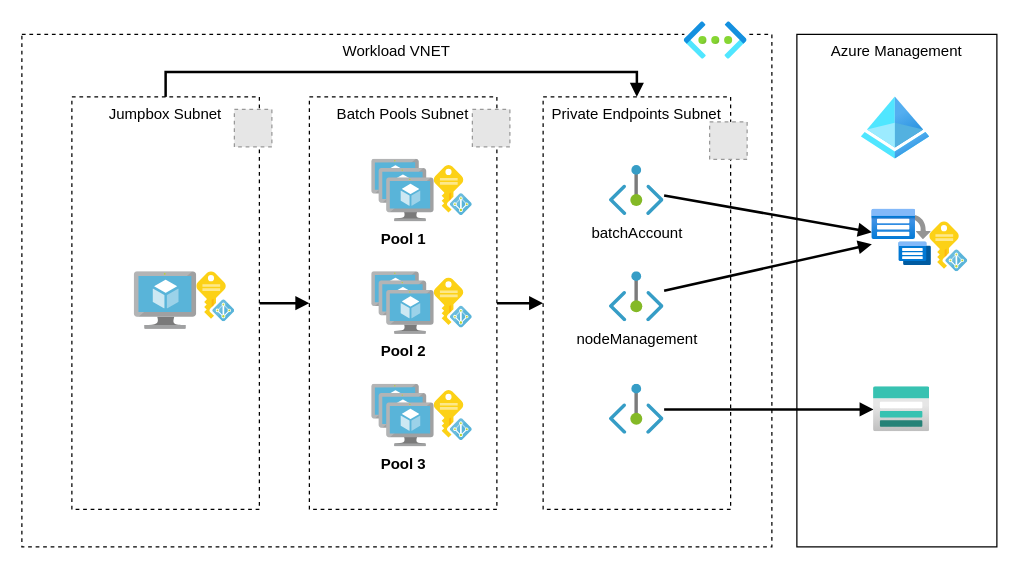
Some shapes in this 1019 by 569 pixel diagram are drawn without their labels. Grey dashed boxes stand in for pictures. The shapes that lost their labels are listed below. From the top down, each one's centre as x and y in pixels, then its label:
the point at 901,237: Batch Account
the point at 165,300: Jump Box
the point at 636,409: blob
the point at 901,408: Storage Account
